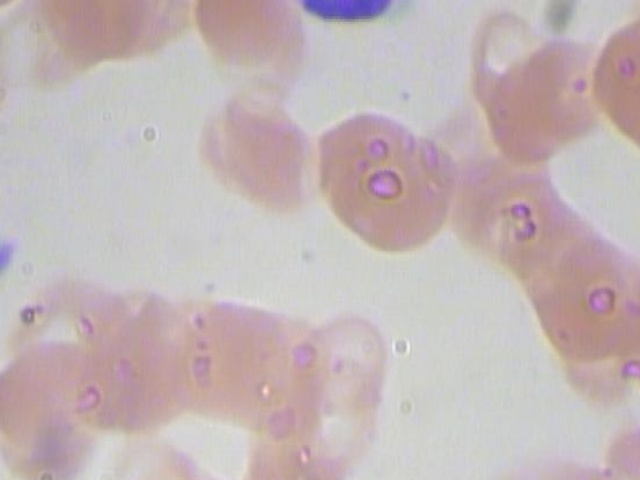Platelets: (0, 224, 24, 285)
RBC: (301, 97, 456, 255), (67, 301, 200, 443), (191, 78, 323, 220), (155, 287, 289, 423), (523, 226, 640, 361), (0, 326, 110, 468), (510, 25, 614, 150), (461, 51, 565, 176), (443, 136, 547, 261), (508, 186, 612, 311), (485, 159, 588, 284), (186, 0, 319, 85), (298, 303, 389, 423), (294, 375, 385, 480), (30, 0, 156, 68), (218, 426, 345, 480), (468, 441, 630, 480), (89, 431, 212, 480), (159, 466, 274, 480), (0, 0, 39, 29), (0, 16, 7, 161), (0, 466, 35, 480)
WBC: (268, 0, 433, 30)
